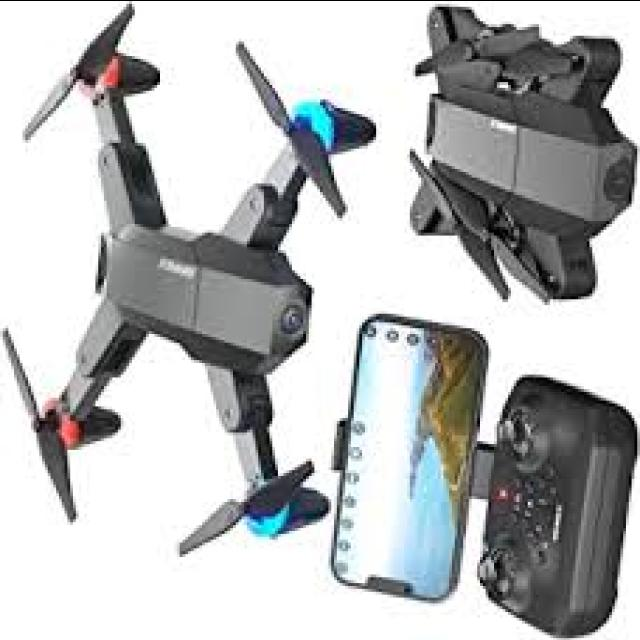drone: (0, 0, 380, 567)
